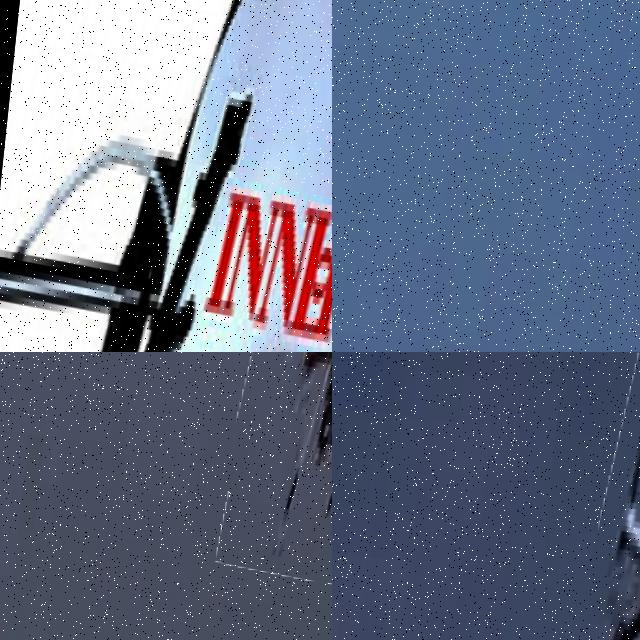0: (220, 352, 332, 589), (570, 352, 640, 640)
drone: (0, 0, 332, 352)
